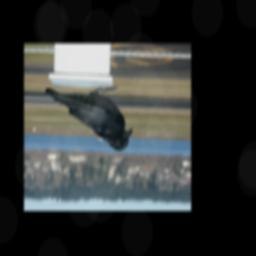Crow: (44, 86, 133, 151)
